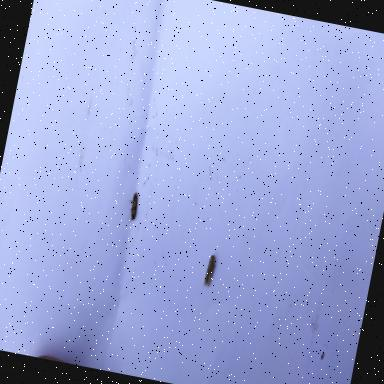pbw: (203, 254, 218, 288), (125, 191, 140, 223)
